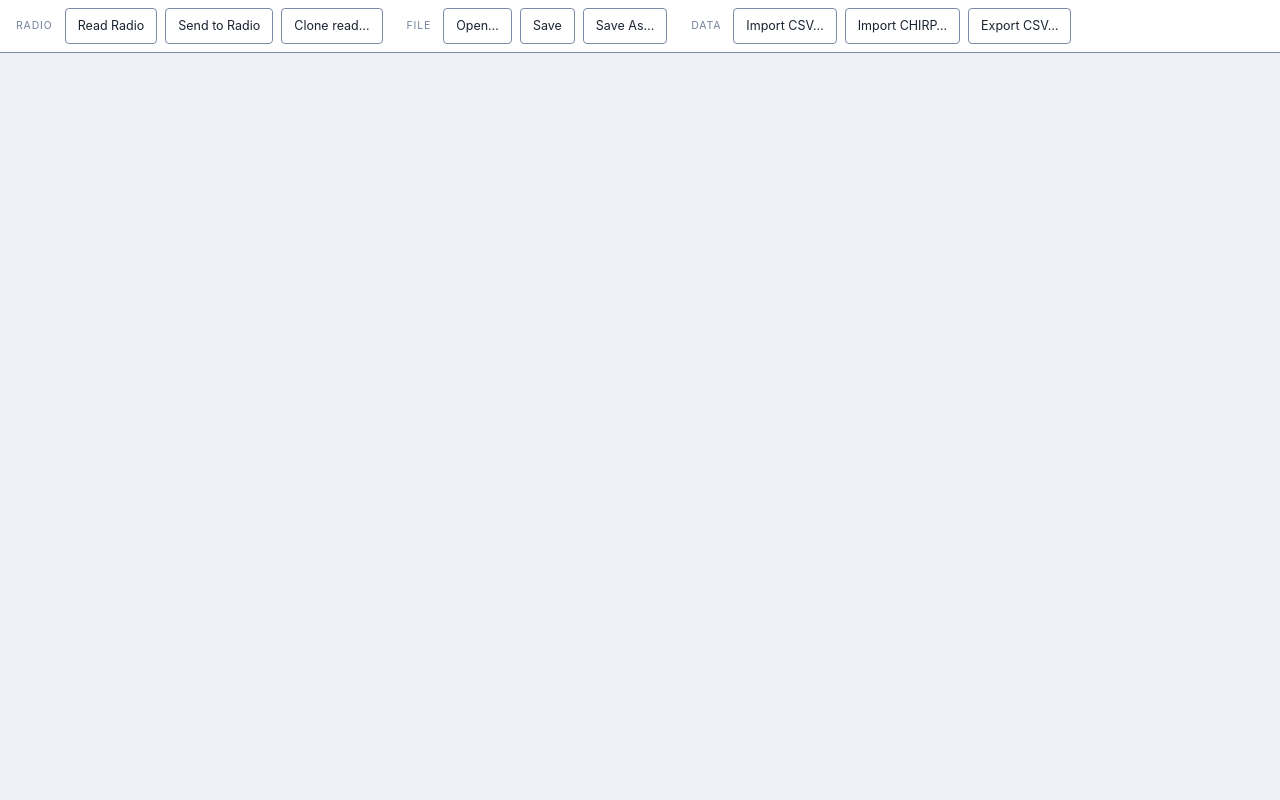
it: Import CSV / CHIRP › a refused import (nothing merged) shows the report honestly
Click the button "Import CSV…" at (785, 26), box [733,8,837,44]
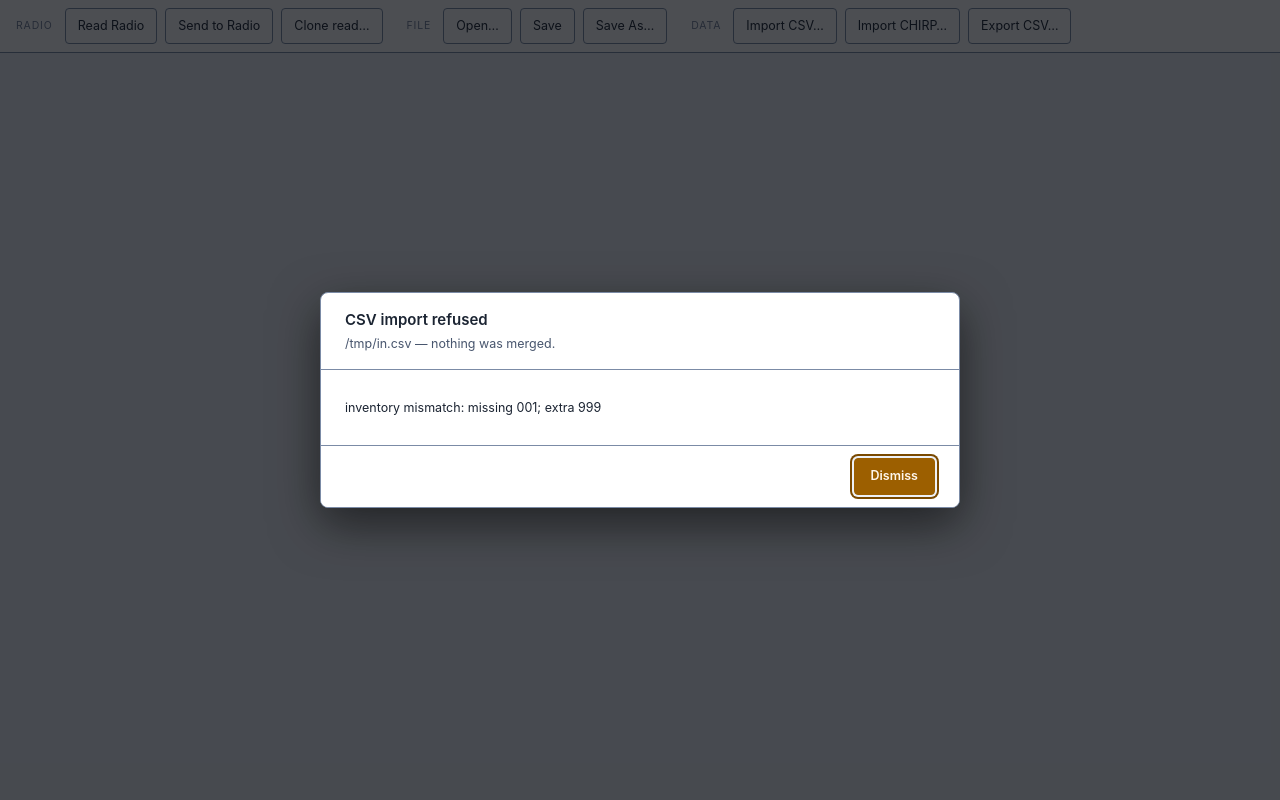
Expected: the heading "CSV import refused" is shown, [345,310,488,329]
Expected: the text "inventory mismatch: missing 001; extra 999" is shown, [345,400,601,415]
